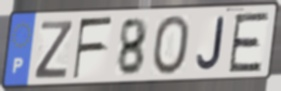8: (116, 16, 150, 77)
E: (226, 10, 272, 75)
F: (71, 15, 115, 82)
J: (195, 15, 226, 72)
O: (150, 13, 191, 77)
Z: (32, 19, 76, 81)
